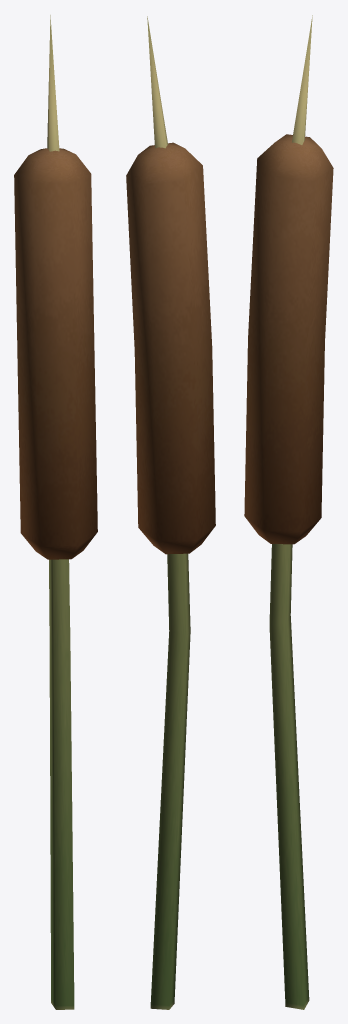
The model's file is Cattail_2.glb.
The picture shows the model from 3 angles, left to right: view 1: azimuth 90°, elevation 25°; view 2: azimuth 150°, elevation 25°; view 3: azimuth 330°, elevation 25°; orthographic projection.
Visible parts, largest first — view 1: Sphere.021, Cube.081; view 2: Sphere.021, Cube.081; view 3: Sphere.021, Cube.081.
Part boxes in pixels (x1,y1,x2,y2): Sphere.021: (14,148,97,559); Cube.081: (47,15,74,1009); Sphere.021: (126,142,215,554); Cube.081: (147,16,190,1009); Sphere.021: (244,134,333,544); Cube.081: (269,15,312,1009).
Size of the model in its own units: 0.0489 by 0.6936 by 0.0532.
2 materials, 2 textured.
